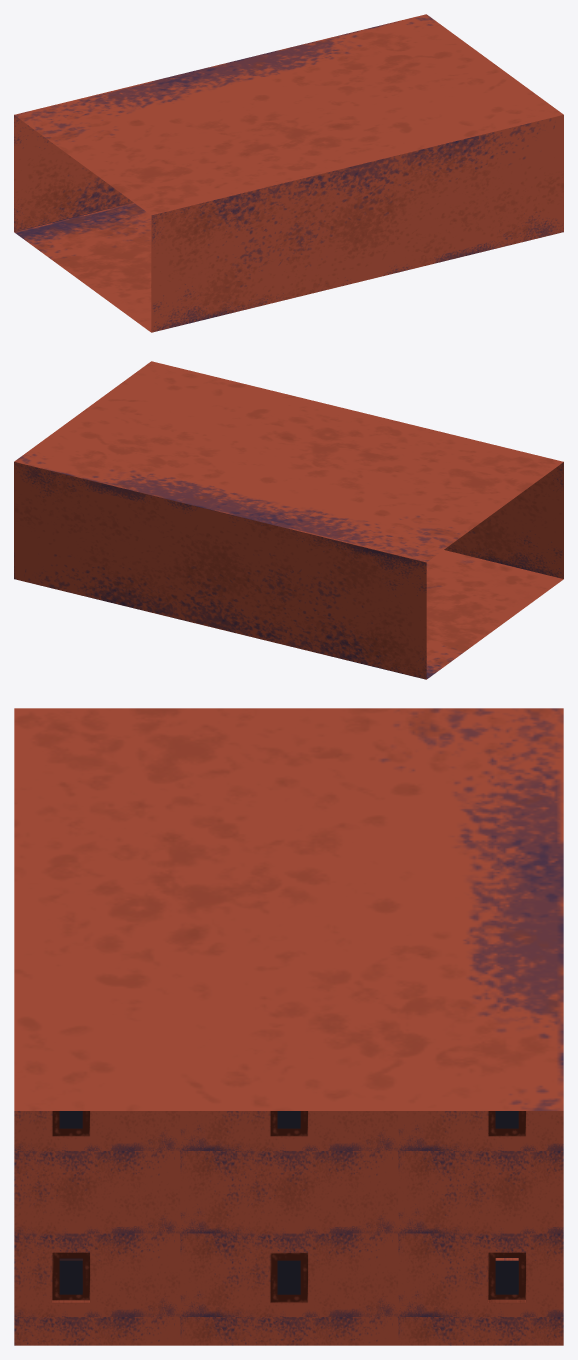
The model's file is BarwWall.fbx.
The picture shows the model from 3 angles, top to bottom: view 1: azimuth 30°, elevation 25°; view 2: azimuth 150°, elevation 25°; view 3: azimuth 270°, elevation 25°; orthographic projection. The views are drawn at different scales.
Parts seen in each view (by area): view 1: Cube.021; view 2: Cube.021; view 3: Cube.021.
Boxes of the visible parts, x1=… form: Cube.021: x1=14, y1=14, x2=563, y2=332; Cube.021: x1=14, y1=361, x2=563, y2=679; Cube.021: x1=14, y1=708, x2=563, y2=1345.
Bounding box in the file's own units: 3849 × 1046 × 2221.
